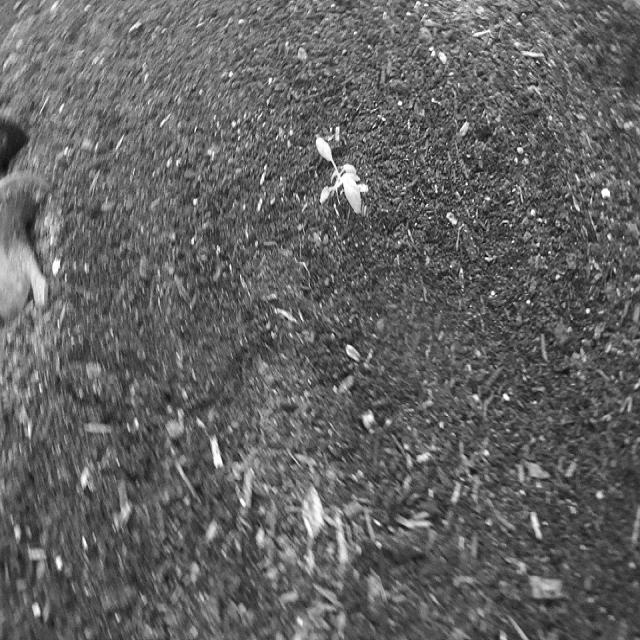Healthy: (316, 131, 364, 221)
